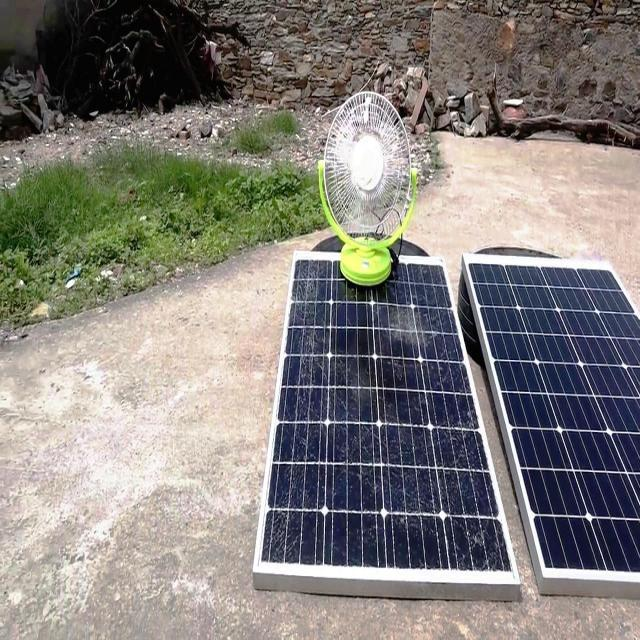faulty: (256, 258, 514, 580)
no faulty: (462, 255, 640, 582)
